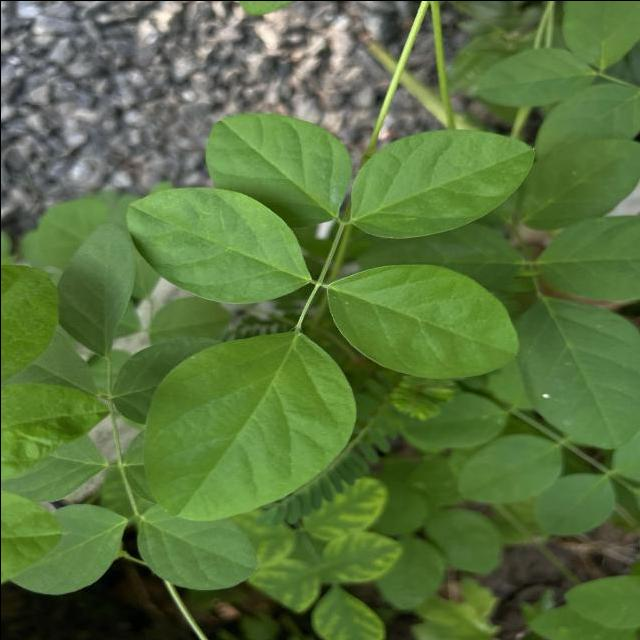Clitoria ternatea: (138, 328, 360, 522), (322, 260, 519, 382), (122, 184, 311, 306), (348, 127, 536, 240), (203, 110, 354, 227)
